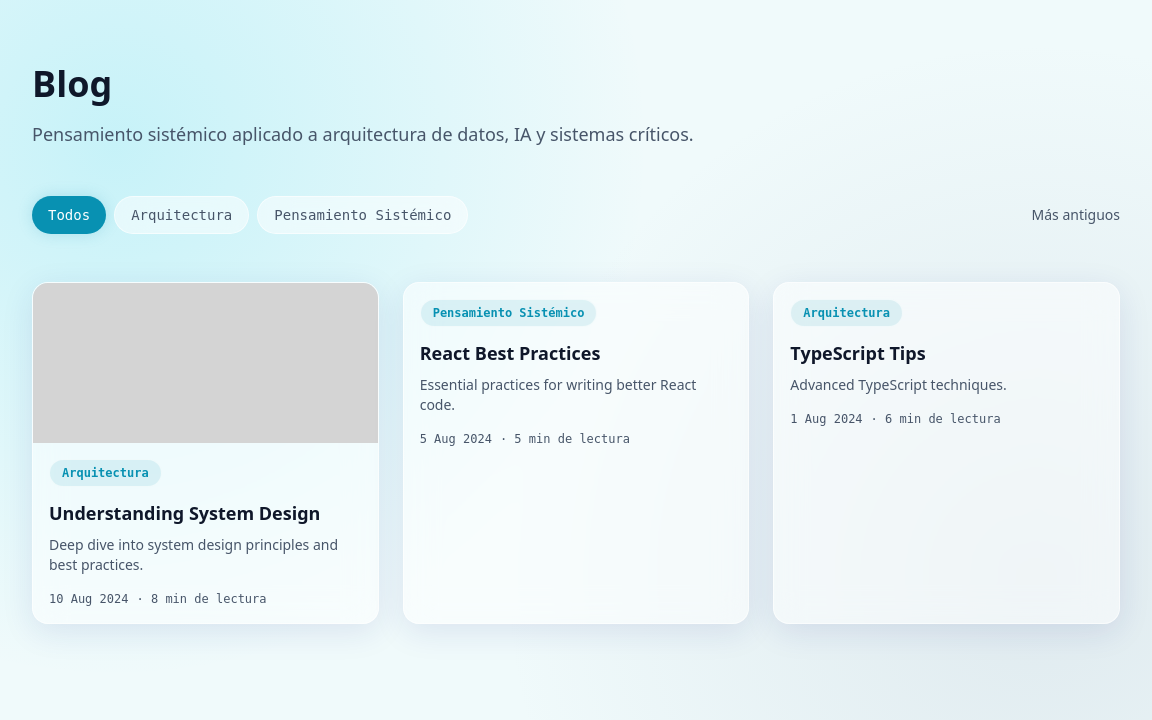
Test: BlogPage › filters posts by selected category
Click the button "Pensamiento Sistémico" at (363, 215), box left=257, top=196, right=468, bottom=234
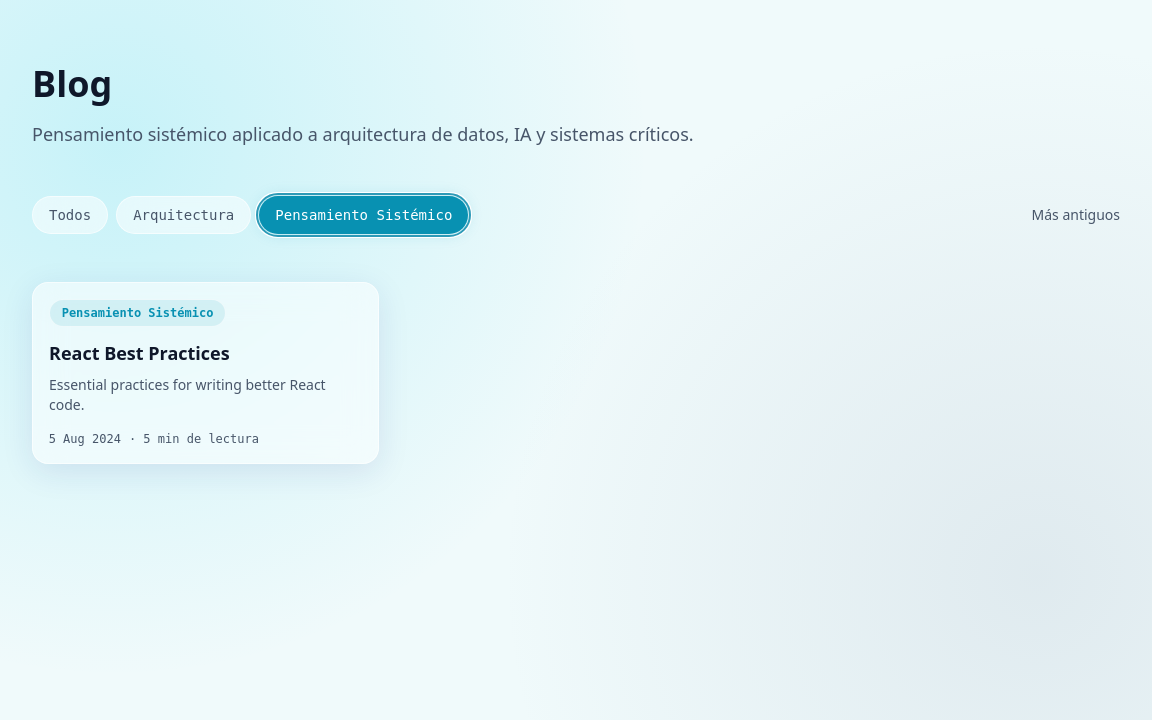
Expected: the heading "React Best Practices" is shown, left=49, top=341, right=230, bottom=365
Expected: the link "Understanding System Design" is gone
